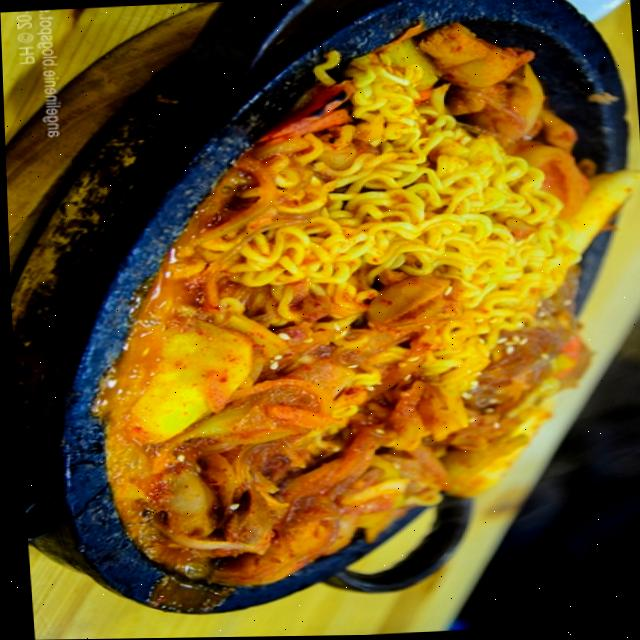鸡肉料理 含炸鸡: (21, 0, 640, 625)
